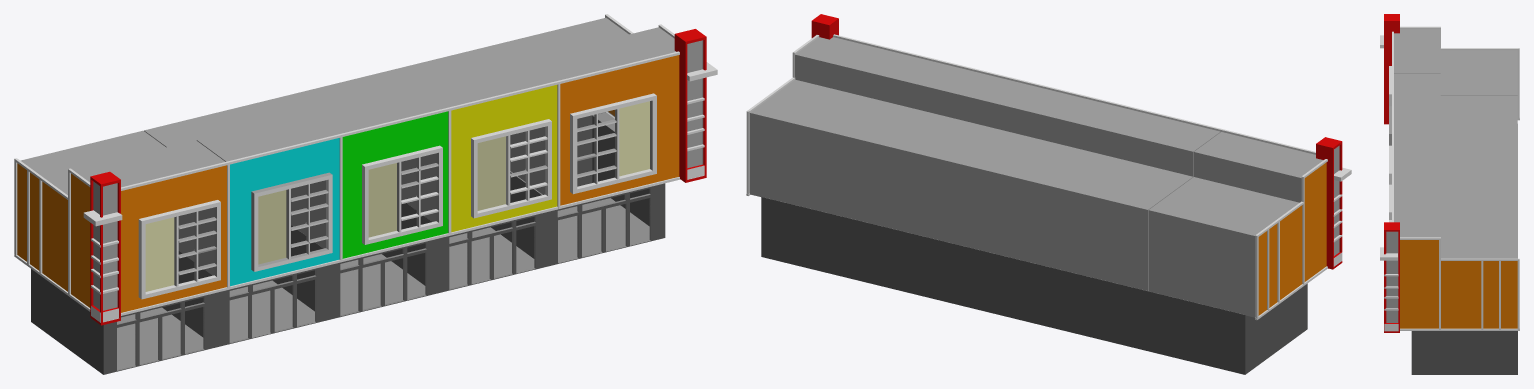
The picture shows the model from 3 angles, left to right: view 1: azimuth 30°, elevation 25°; view 2: azimuth 150°, elevation 25°; view 3: azimuth 270°, elevation 25°; orthographic projection. The views are drawn at different scales.
Parts seen in each view (by area): view 1: pCube63, pCube62, pCube56, pCube53, pCube48; view 2: pCube63, pCube62, pCube48, pCube53, pCube56; view 3: pCube62, pCube63, pCube48, pCube53, pCube56.
Boxes of the visible parts, bbox=[...] form: pCube63: bbox=[14, 130, 230, 374]; pCube62: bbox=[474, 14, 717, 266]; pCube56: bbox=[365, 50, 557, 293]; pCube53: bbox=[255, 76, 448, 320]; pCube48: bbox=[144, 103, 339, 347]; pCube63: bbox=[1147, 129, 1351, 374]; pCube62: bbox=[746, 14, 937, 281]; pCube48: bbox=[1051, 108, 1220, 350]; pCube53: bbox=[956, 85, 1125, 327]; pCube56: bbox=[862, 62, 1029, 304]; pCube62: bbox=[1380, 190, 1519, 374]; pCube63: bbox=[1380, 14, 1519, 163]; pCube48: bbox=[1389, 74, 1517, 203]; pCube53: bbox=[1389, 113, 1517, 241]; pCube56: bbox=[1389, 153, 1517, 258].
Bounding box in the file's own units: 45.06 × 14.51 × 12.
